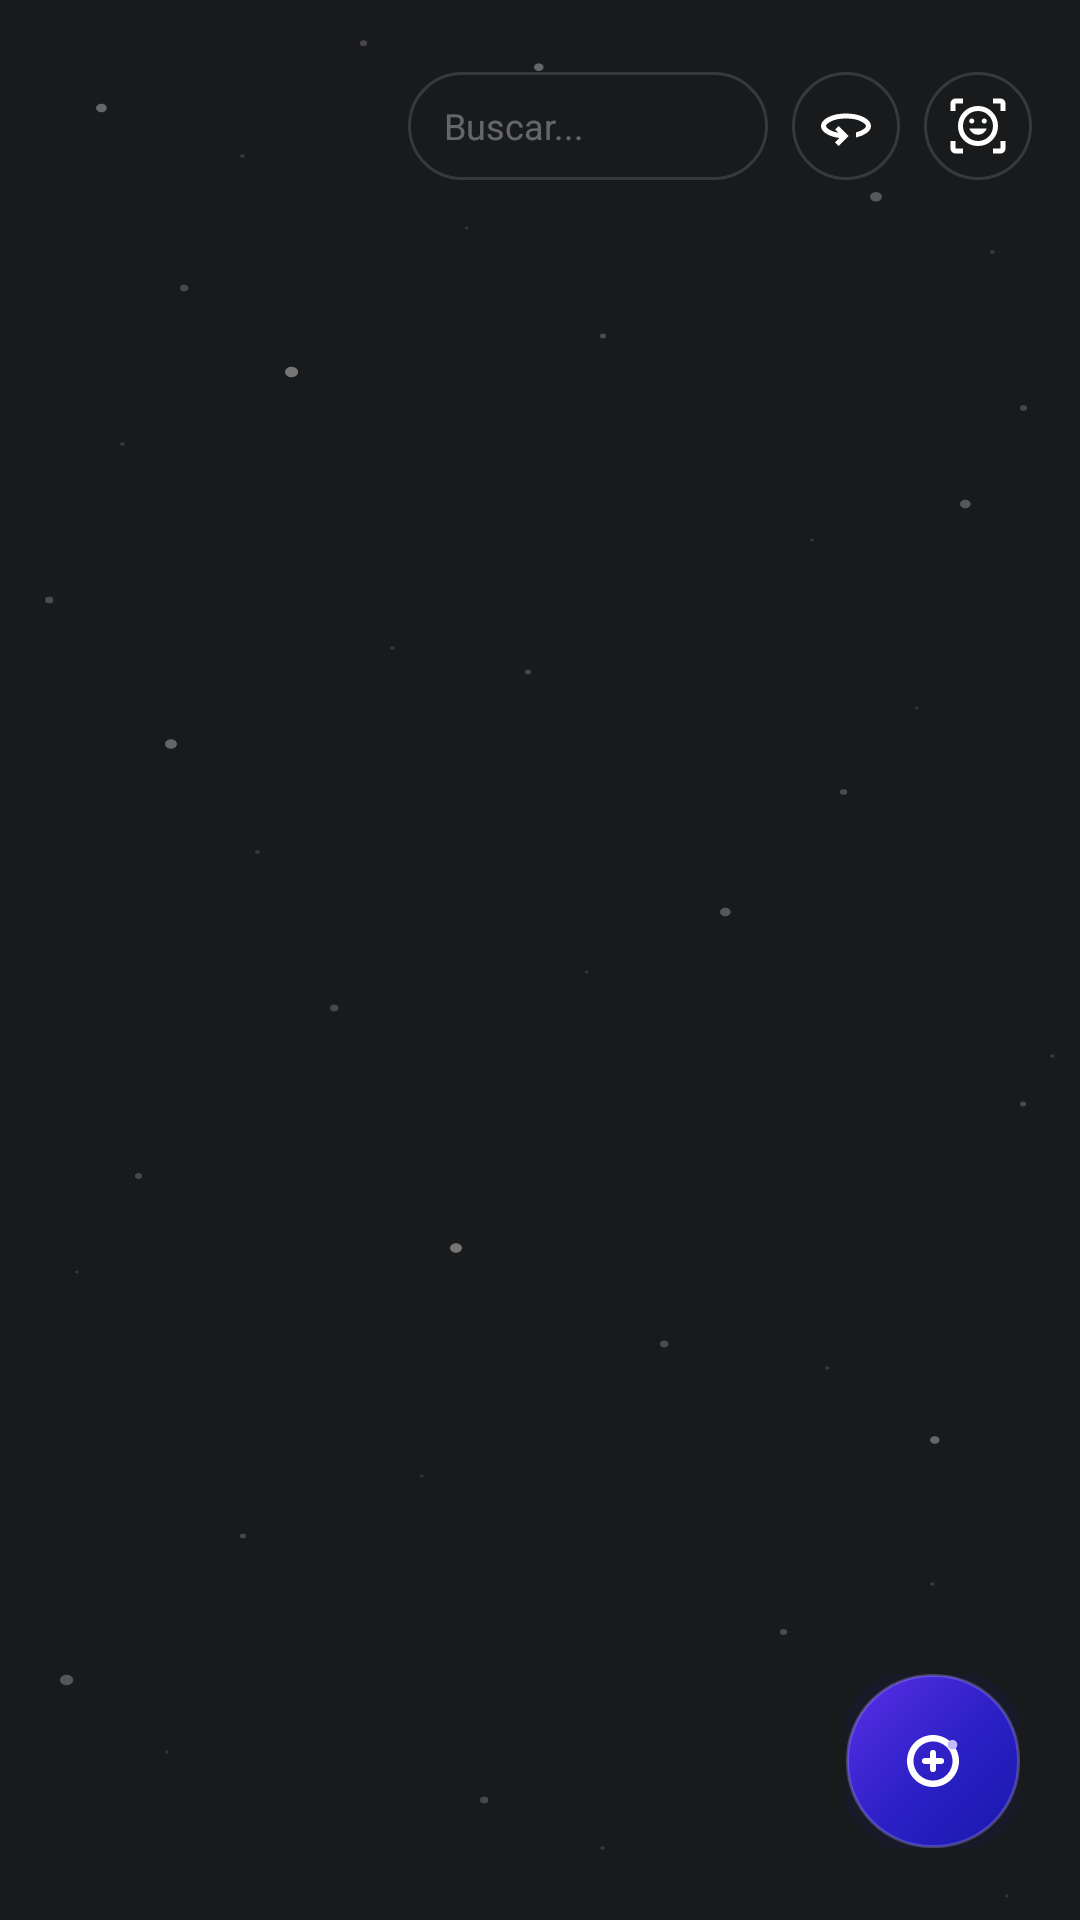

Locate icon controls on the screen. Image size 1080 x 1920, boxes as (x1, y1, x2, y2).
fab orbit: (907, 1735, 959, 1787)
